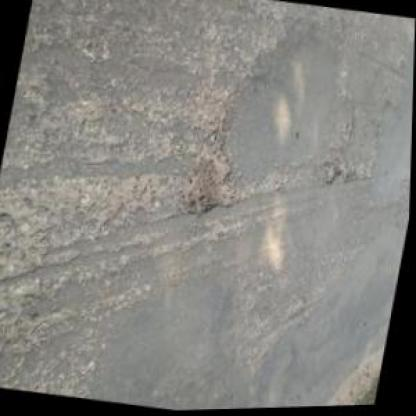pothole: (177, 140, 240, 223), (317, 160, 344, 188)
